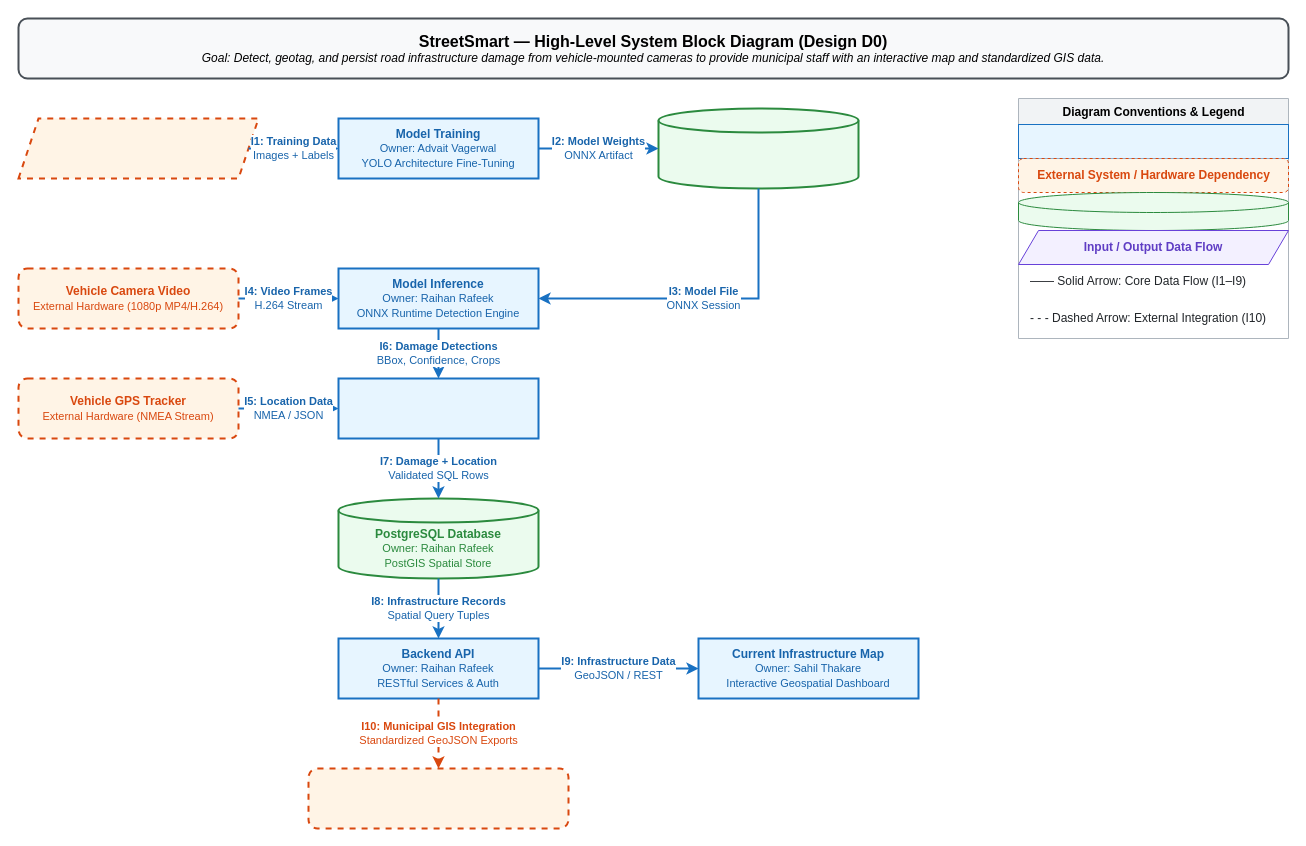
This 1306x846 diagram has some shape labels left out. The shapes that lost their labels are listed below. From the top down, each one's centre as x and y in pixels, then its label:
At pixel 138 148: "Labeled Training Data (RDD2022, Roboflow, Local Annotations)".
At pixel 758 148: "Trained Model Storage Owner: Advait Vagerwal Versioned ONNX Artifacts".
At pixel 1153 141: "Internal Component (Built by Team)".
At pixel 1153 211: "Persistent Database / Model Storage".
At pixel 438 408: "Ingestion Pipeline Owner: Sahil Thakare GPS Sync & Privacy Redaction".
At pixel 438 798: "City Systems / Municipal GIS External Stakeholder (DTO, OPDA, CAGIS)".
